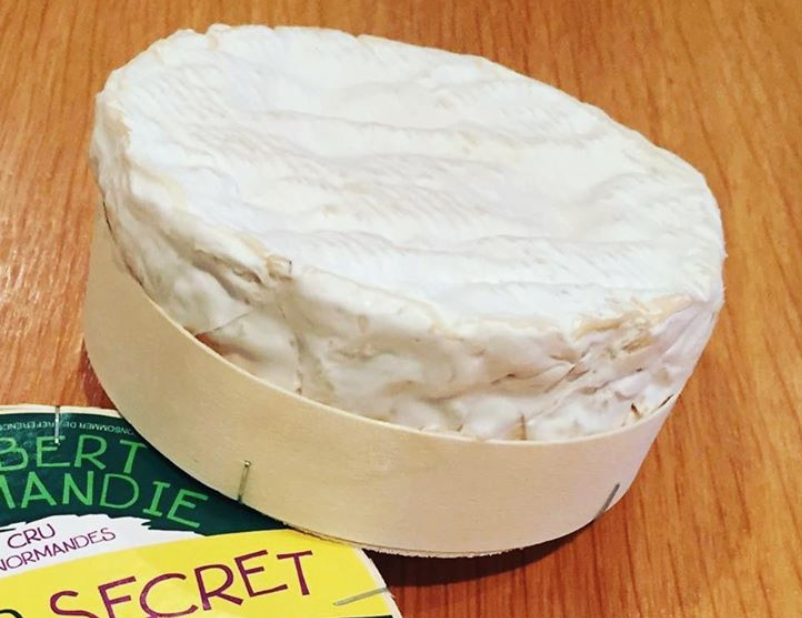camembert: (89, 22, 729, 469)
